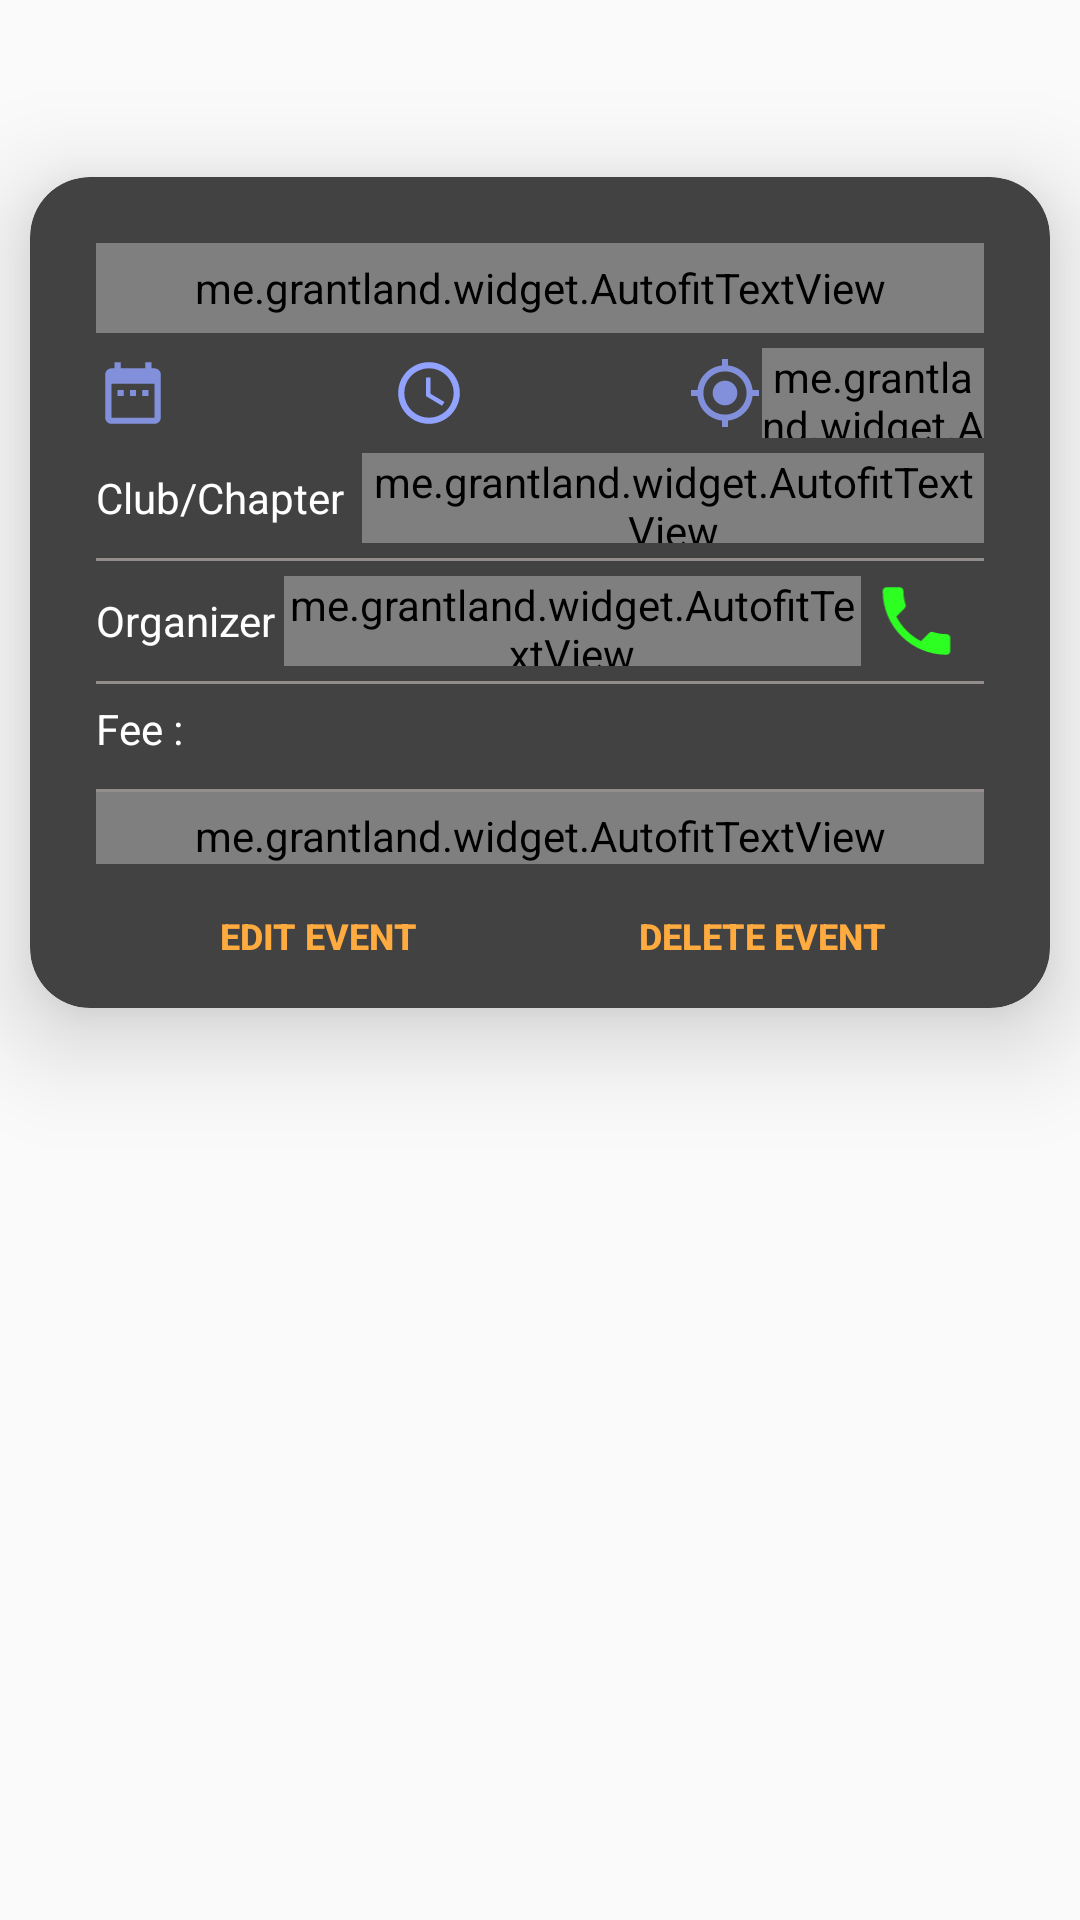

Icons on this 1080 × 1920 Android screen, each with its box as (x1, y1, x2, y2):
Call: (882, 587, 951, 655)
Date: (105, 362, 161, 424)
Time: (398, 362, 460, 424)
Venue: (691, 359, 759, 427)
